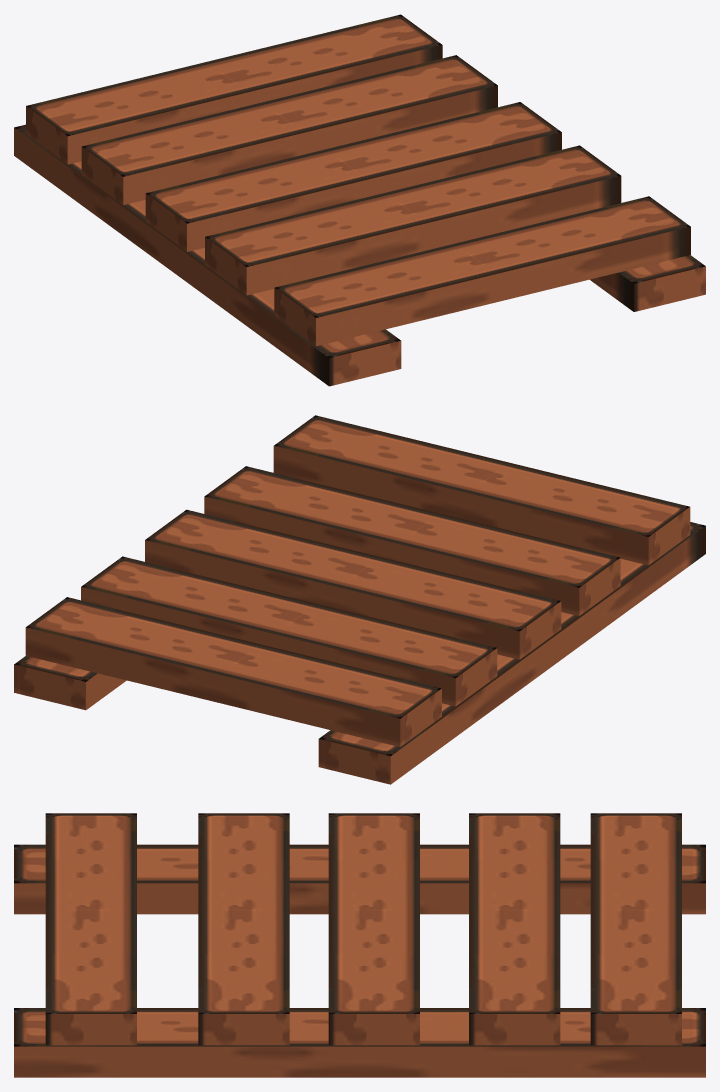
The model's file is Table.glb.
3 renders of one model, top to bottom at view 1: azimuth 30°, elevation 25°; view 2: azimuth 150°, elevation 25°; view 3: azimuth 270°, elevation 25°, orthographic. The views are drawn at different scales.
Visible parts, largest first — view 1: Cube.004, Cube.007, Cube.006, Cube.005, Cube.002, Cube.003, Cube.001; view 2: Cube.002, Cube.004, Cube.005, Cube.007, Cube.006, Cube.003, Cube.001; view 3: Cube.001, Cube.007, Cube.004, Cube.005, Cube.006, Cube.002, Cube.003.
Part boxes in pixels (box(x1,y1,x2,y2)): Cube.004: box(274, 196, 690, 346); Cube.007: box(205, 145, 621, 295); Cube.006: box(81, 55, 497, 205); Cube.005: box(145, 102, 561, 251); Cube.002: box(26, 14, 442, 164); Cube.003: box(14, 124, 401, 386); Cube.001: box(590, 255, 705, 311); Cube.002: box(25, 597, 441, 746); Cube.004: box(273, 415, 690, 565); Cube.005: box(145, 509, 561, 659); Cube.007: box(204, 466, 620, 615); Cube.006: box(81, 556, 497, 706); Cube.003: box(318, 522, 705, 784); Cube.001: box(14, 656, 126, 710); Cube.001: box(14, 1008, 705, 1077); Cube.007: box(198, 813, 289, 1045); Cube.004: box(45, 813, 136, 1045); Cube.005: box(328, 813, 419, 1045); Cube.006: box(469, 813, 560, 1045); Cube.002: box(590, 813, 681, 1045); Cube.003: box(14, 844, 705, 914).
Bounding box in the file's own units: 1.67 × 0.2441 × 2.42.
Materials: 7 (7 with a texture image).
